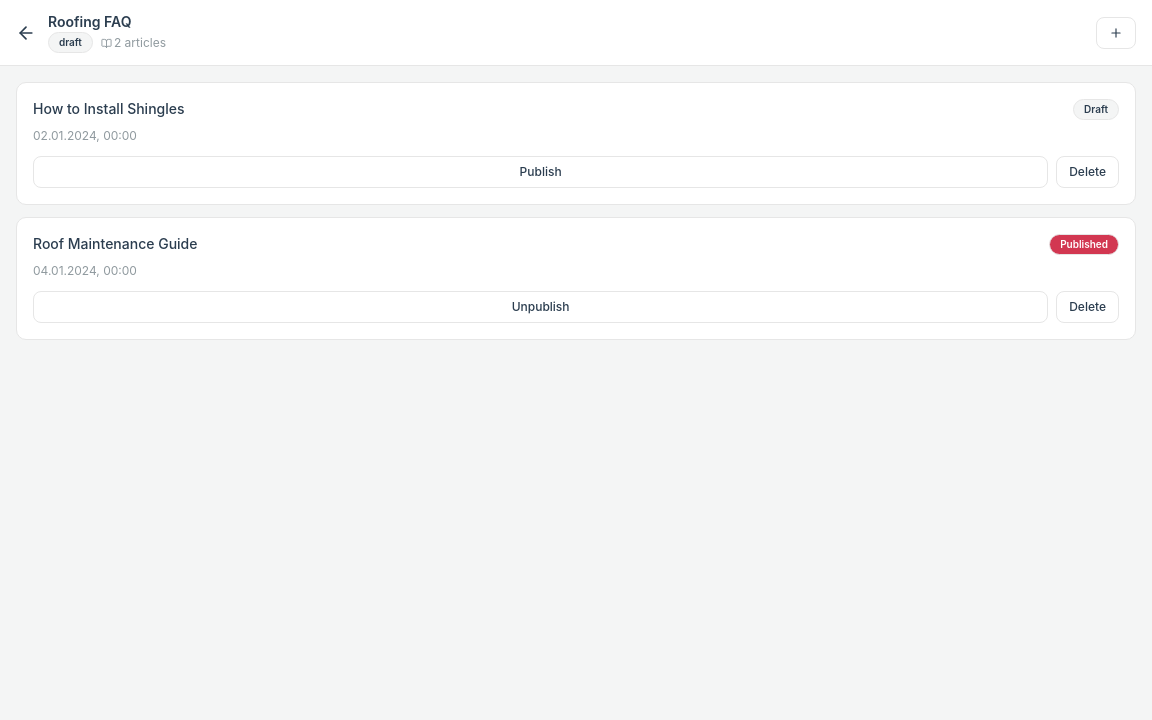
Test: MobileKnowledgeBaseDetail › shows mobile-kb-article-create-error when createArticleMutation.isError is true
Click the button with test id "mobile-kb-article-create-button" at (1116, 32), box [1096,16,1136,48]
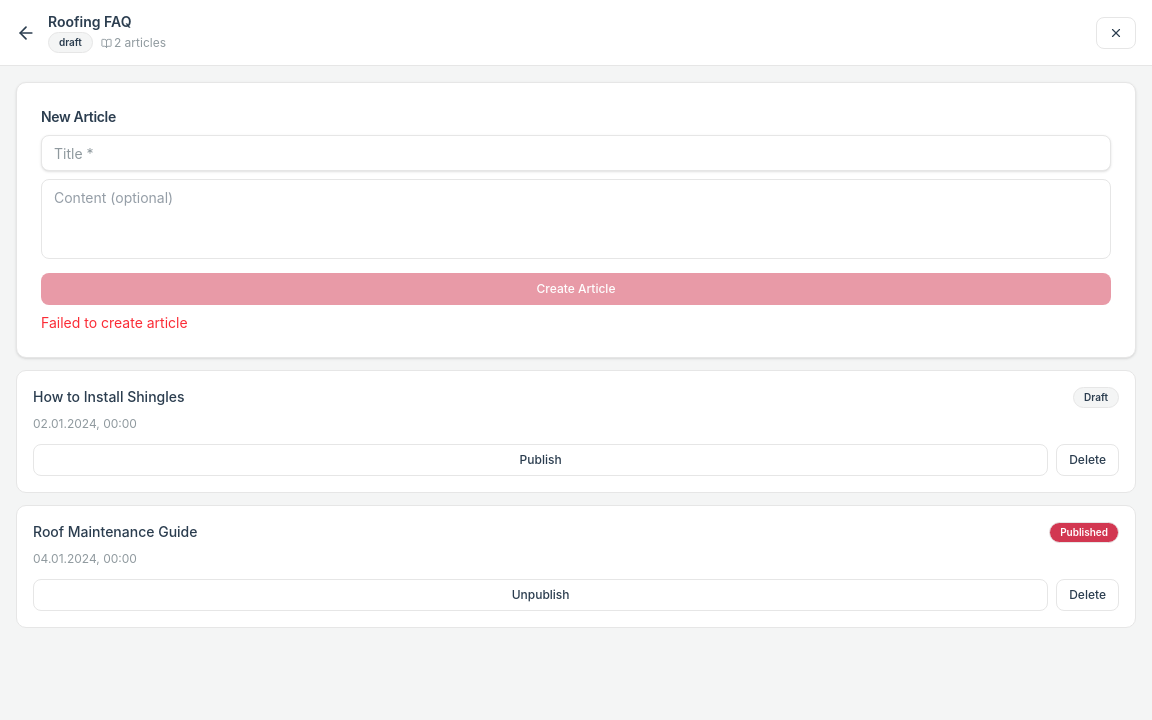
Now the text with test id "mobile-kb-article-create-error" reads "Failed to create article", box [41,314,188,331]
